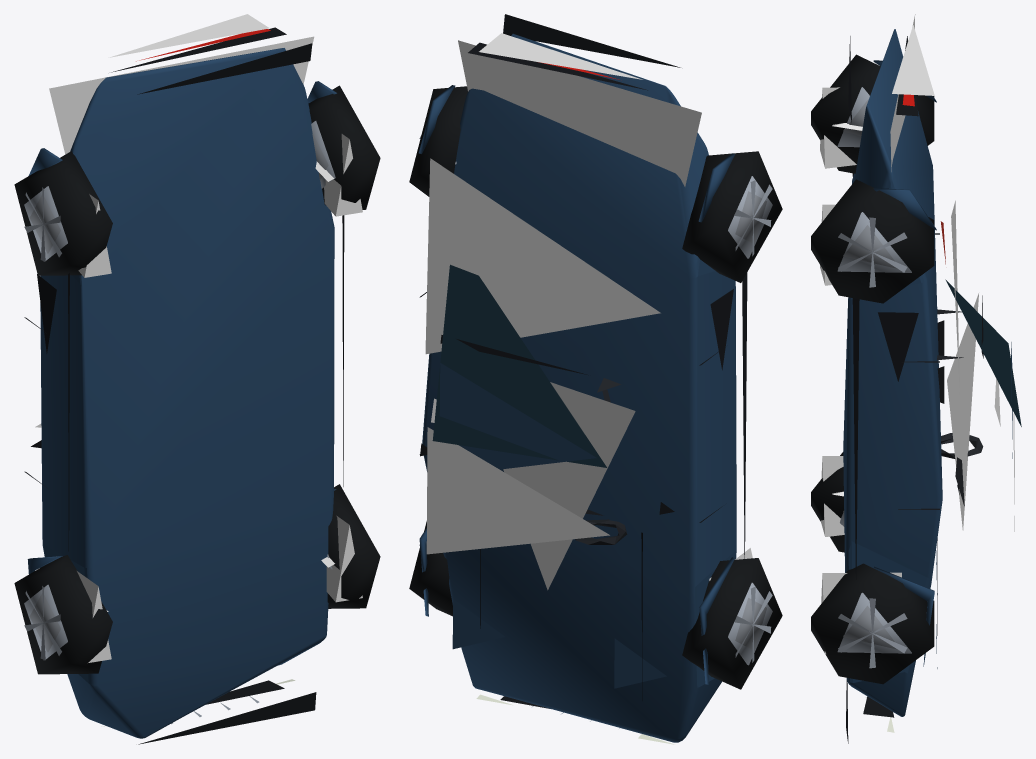
The model's file is MarshNsx_LOD2.fbx.
The picture shows the model from 3 angles, left to right: view 1: azimuth 30°, elevation 25°; view 2: azimuth 150°, elevation 25°; view 3: azimuth 270°, elevation 25°; orthographic projection. The views are drawn at different scales.
Parts seen in each view (by area): view 1: Marsh_BODY_SHELL, Marsh_TIRE.001, Marsh_TIRE, Marsh_TIRE.003, Marsh_TIRE.002, marsh_nsx91_Body, Marsh_FRONT_SPLITTER, Marsh_REAR_DIFFUSER, marsh_nsx91_Grille, marsh_nsx91_Wheel.002, marsh_nsx91_Wheel.003, Marsh_REAR_LAMP_PANEL (+8 smaller); view 2: Marsh_BODY_SHELL, marsh_nsx91_Hood, marsh_nsx91_Body, Marsh_GLASSHOUSE, marsh_nsx91_Windshield, marsh_nsx91_Cabin, Marsh_ROOF_PANEL, Marsh_TIRE.001, Marsh_TIRE, Marsh_TIRE.003, Marsh_REAR_DIFFUSER, marsh_nsx91_Grille (+14 smaller); view 3: Marsh_BODY_SHELL, Marsh_TIRE.003, Marsh_TIRE.002, Marsh_TIRE.001, marsh_nsx91_Cabin, Marsh_GLASSHOUSE, marsh_nsx91_Grille, Marsh_SIDE_INTAKE.001, Marsh_TIRE, Marsh_SIDE_SILL.001, Marsh_RIM.002, Marsh_RIM.003 (+12 smaller).
Boxes of the visible parts, x1=… form: Marsh_BODY_SHELL: x1=40, y1=48, x2=334, y2=738; Marsh_TIRE.001: x1=14, y1=151, x2=112, y2=275; Marsh_TIRE: x1=14, y1=555, x2=112, y2=674; Marsh_TIRE.003: x1=308, y1=85, x2=380, y2=209; Marsh_TIRE.002: x1=327, y1=484, x2=380, y2=608; marsh_nsx91_Body: x1=49, y1=36, x2=314, y2=154; Marsh_FRONT_SPLITTER: x1=138, y1=692, x2=316, y2=744; Marsh_REAR_DIFFUSER: x1=137, y1=43, x2=312, y2=94; marsh_nsx91_Grille: x1=108, y1=14, x2=269, y2=57; marsh_nsx91_Wheel.002: x1=326, y1=515, x2=362, y2=602; marsh_nsx91_Wheel.003: x1=324, y1=134, x2=362, y2=216; Marsh_REAR_LAMP_PANEL: x1=111, y1=27, x2=286, y2=72; Marsh_BODY_SHELL: x1=422, y1=33, x2=736, y2=742; marsh_nsx91_Hood: x1=425, y1=158, x2=660, y2=354; marsh_nsx91_Body: x1=458, y1=40, x2=701, y2=186; Marsh_GLASSHOUSE: x1=432, y1=264, x2=606, y2=467; marsh_nsx91_Windshield: x1=426, y1=427, x2=609, y2=554; marsh_nsx91_Cabin: x1=503, y1=382, x2=635, y2=590; Marsh_ROOF_PANEL: x1=439, y1=363, x2=596, y2=469; Marsh_TIRE.001: x1=682, y1=151, x2=782, y2=282; Marsh_TIRE: x1=682, y1=558, x2=782, y2=689; Marsh_TIRE.003: x1=409, y1=86, x2=467, y2=196; Marsh_REAR_DIFFUSER: x1=503, y1=14, x2=680, y2=67; marsh_nsx91_Grille: x1=479, y1=33, x2=642, y2=79; Marsh_BODY_SHELL: x1=843, y1=29, x2=942, y2=716; Marsh_TIRE.003: x1=811, y1=179, x2=934, y2=303; Marsh_TIRE.002: x1=811, y1=563, x2=934, y2=684; Marsh_TIRE.001: x1=811, y1=54, x2=934, y2=173; marsh_nsx91_Cabin: x1=947, y1=293, x2=978, y2=530; Marsh_GLASSHOUSE: x1=945, y1=279, x2=1021, y2=426; marsh_nsx91_Grille: x1=892, y1=25, x2=934, y2=95; Marsh_SIDE_INTAKE.001: x1=878, y1=312, x2=918, y2=381; Marsh_TIRE: x1=811, y1=452, x2=844, y2=552; Marsh_SIDE_SILL.001: x1=852, y1=298, x2=859, y2=579; Marsh_RIM.002: x1=837, y1=592, x2=911, y2=653; Marsh_RIM.003: x1=837, y1=212, x2=911, y2=272.
Size of the model in its own units: 227 by 469 by 140.
